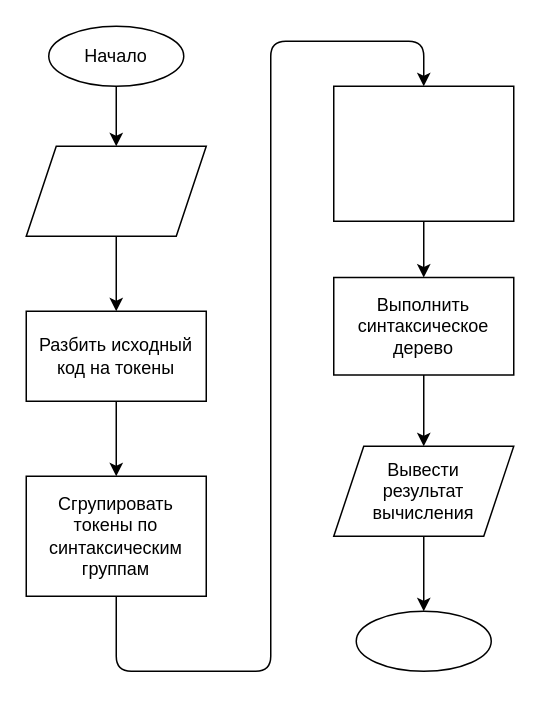
The diagram is 540 pixels wide and 710 high, and some of its shapes have lost their labels. The shapes that lost their labels are listed below. From the top down, each one's centre as x and y in pixels, then its label:
At [423,153]: "Проанализировать синтаксическое дерево по семантическим правилам".
At [115,190]: "Считать исходный код".
At [423,640]: "Конец".
